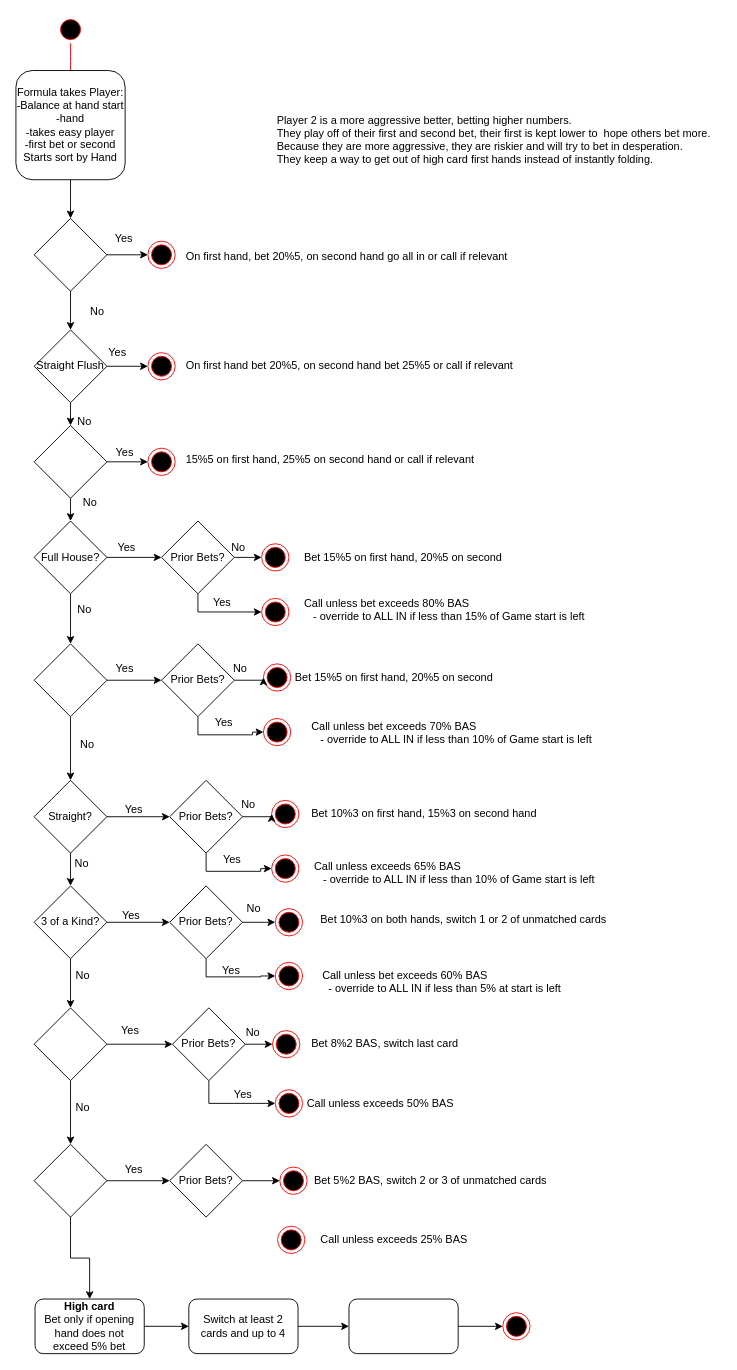
Some shapes in this 737 by 1370 pixel diagram are drawn without their labels. Each missing label, with the centre of its shape:
2 pair?: (70,1044)
Flush: (70,680)
Four of a Kind?: (70,461)
If still high card on second, fold: (403,1326)
Pair?: (70,1180)
Royal Flush?: (70,254)
